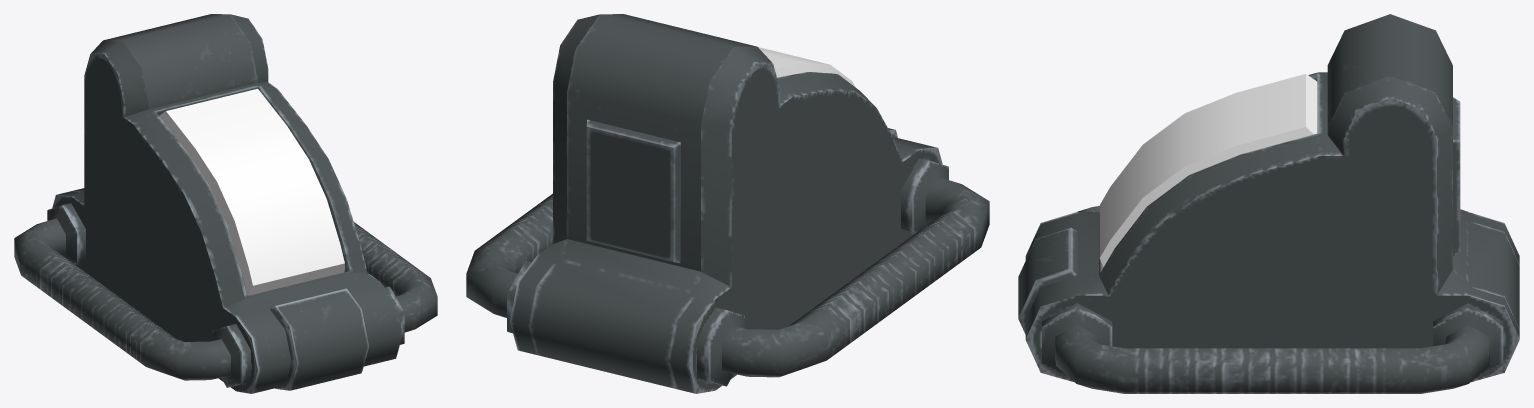
3 renders of one model, left to right at view 1: azimuth 30°, elevation 25°; view 2: azimuth 150°, elevation 25°; view 3: azimuth 270°, elevation 25°, orthographic. The views are drawn at different scales.
Parts seen in each view (by area): view 1: Light_15_Material #39_0, Light_15_Material #38_0; view 2: Light_15_Material #39_0, Light_15_Material #38_0; view 3: Light_15_Material #39_0, Light_15_Material #38_0.
Part boxes in pixels (left/top/right/bottom): Light_15_Material #39_0: left=14, top=14, right=437, bottom=393; Light_15_Material #38_0: left=159, top=88, right=344, bottom=295; Light_15_Material #39_0: left=466, top=14, right=989, bottom=393; Light_15_Material #38_0: left=758, top=47, right=855, bottom=87; Light_15_Material #39_0: left=1018, top=14, right=1519, bottom=393; Light_15_Material #38_0: left=1099, top=74, right=1317, bottom=266.
Size of the model in its own units: 31.56 by 26.9 by 40.58.
Materials: 2 (1 with a texture image).
